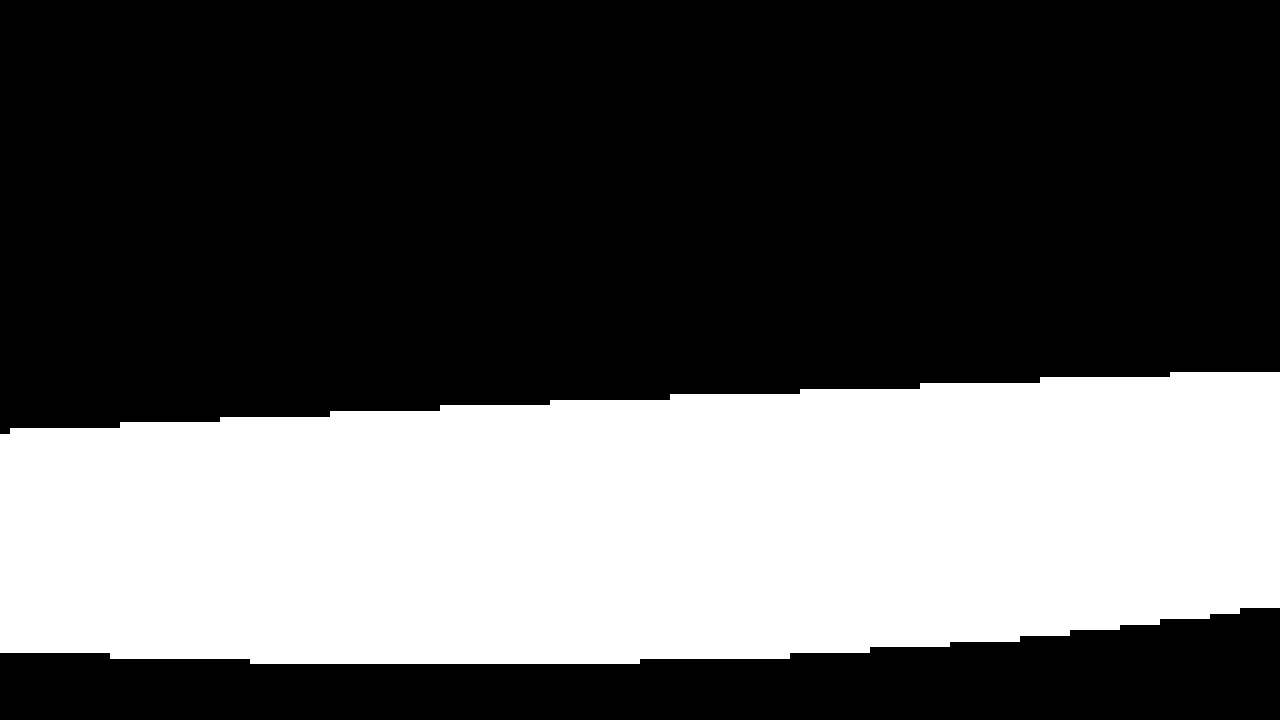Turbine: (5, 355, 1268, 671)
